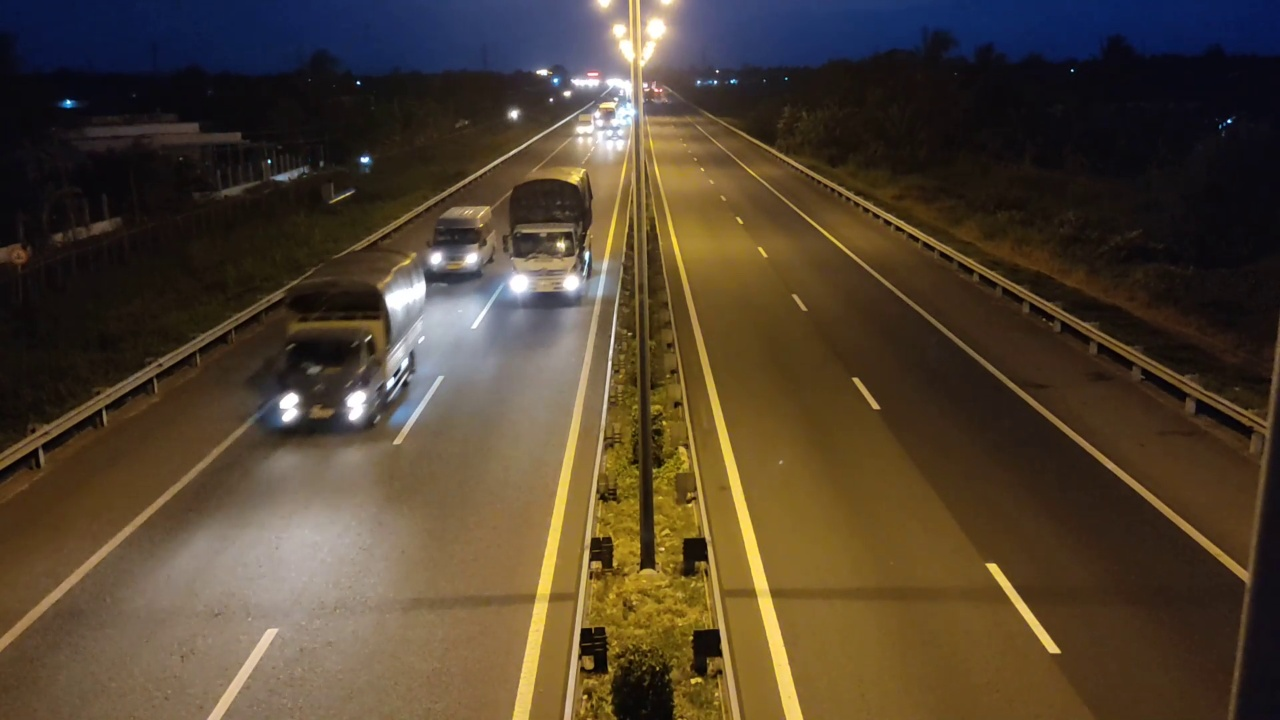car: (418, 193, 497, 278)
truck: (271, 231, 423, 438), (507, 165, 594, 305)
